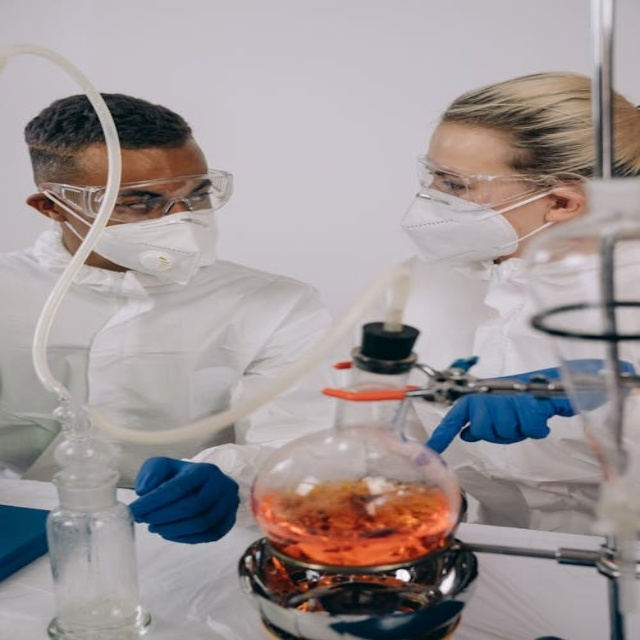Gafas: (38, 170, 233, 221), (413, 156, 569, 208)
Guantes: (129, 456, 242, 544), (427, 387, 561, 450), (330, 599, 465, 639)
Mascara: (64, 200, 216, 285), (400, 180, 538, 265), (517, 230, 639, 304)
